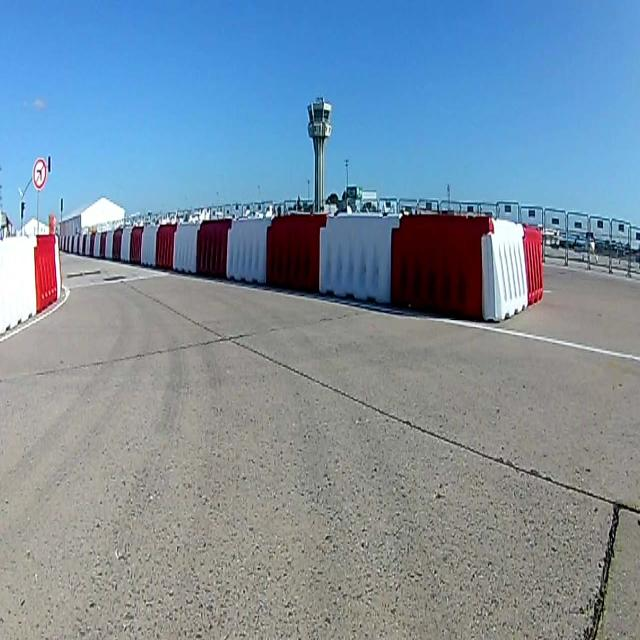soladonulmez: (33, 156, 47, 192)
